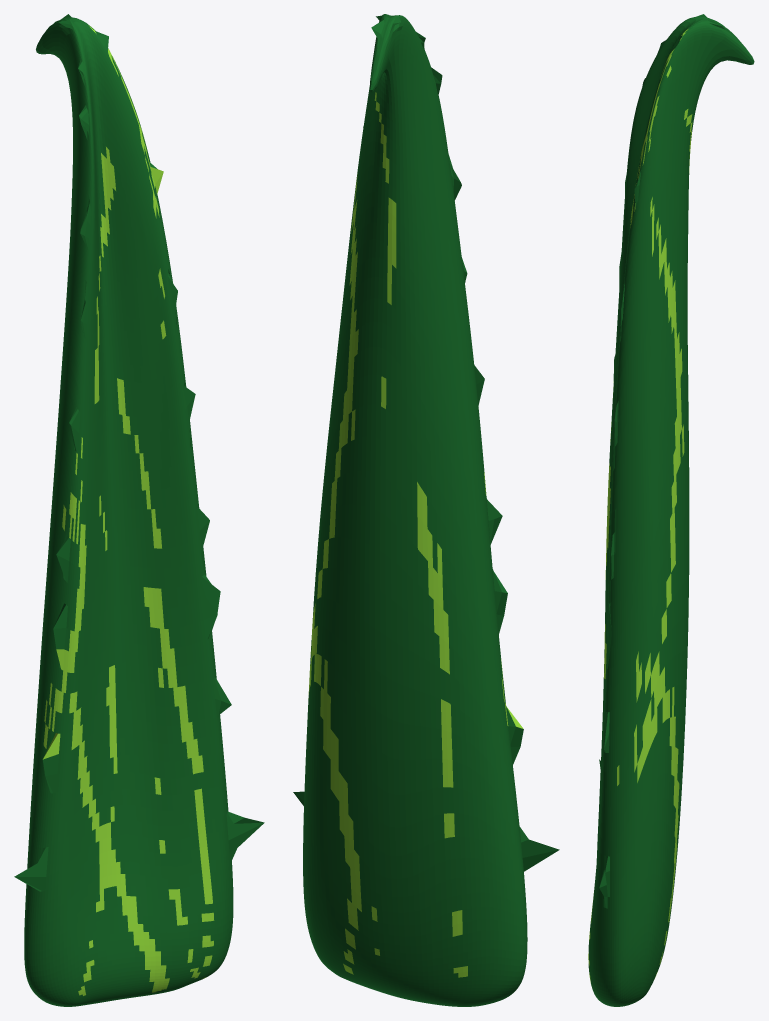
Rendered from Aloevera.fbx.
The picture shows the model from 3 angles, left to right: view 1: azimuth 30°, elevation 25°; view 2: azimuth 150°, elevation 25°; view 3: azimuth 270°, elevation 25°; orthographic projection. The views are drawn at different scales.
Parts seen in each view (by area): view 1: Cube; view 2: Cube; view 3: Cube.
Boxes of the visible parts, x1,y1,x2,y2 form: Cube: (14, 14, 264, 1006); Cube: (293, 14, 559, 1006); Cube: (588, 14, 754, 1006).
Bounding box in the file's own units: 812 × 2943 × 466.
